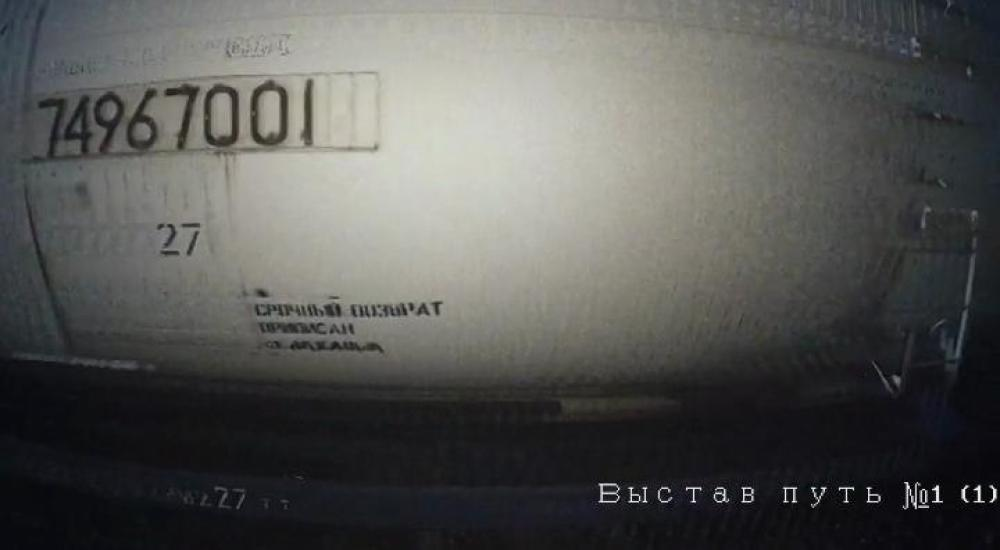Wagon-number: (29, 74, 325, 158)
